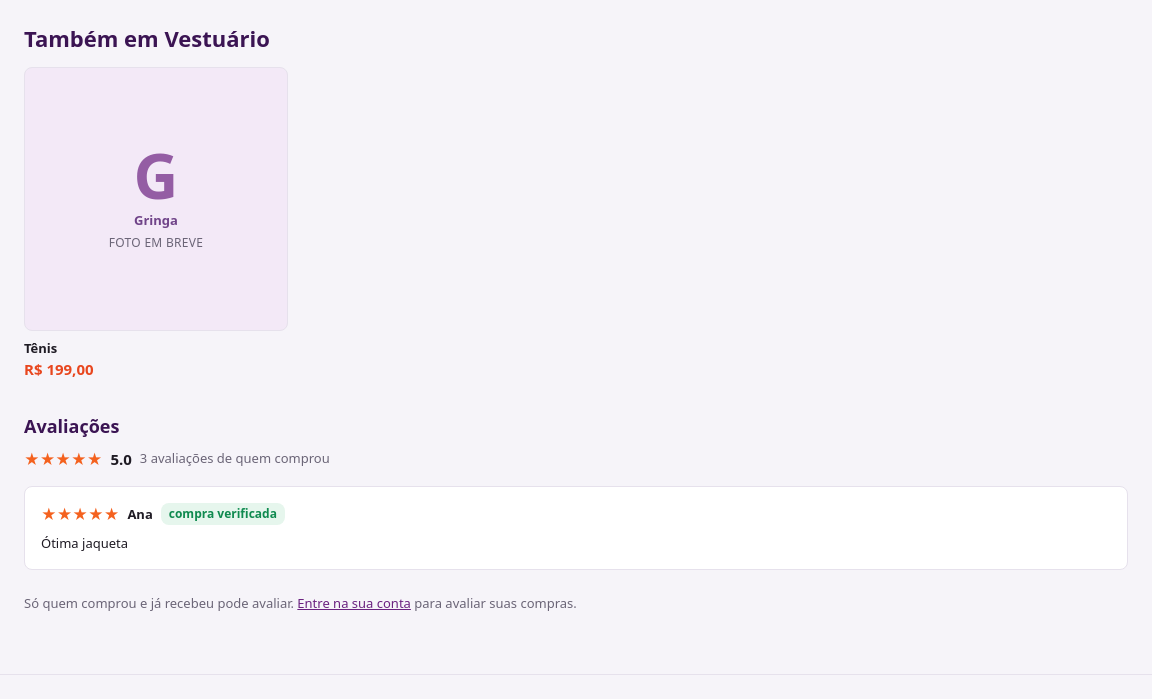
Test: a página do produto não carrega o produto anterior › trocar de produto zera as avaliações do que ficou para trás
(page scrolled)
expect the text "Ótima jaqueta" is shown: met, box [41,534,128,552]
expect the text "3 avaliações de quem comprou" is shown: met, box [140,449,330,468]
Click the text "Tênis".
click(41, 348)  # box [24,338,57,356]
(page scrolled)
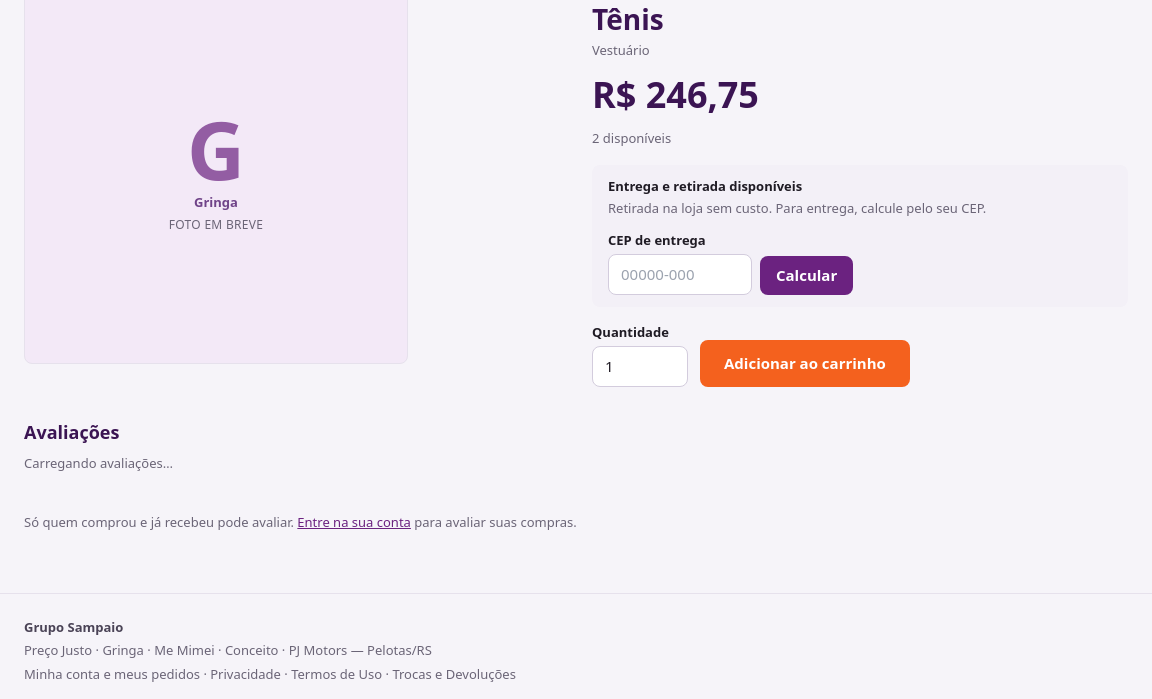
expect the text "Ótima jaqueta" is gone: met
expect the text "3 avaliações" is gone: met
expect the text "Carregando avaliações…" is shown: met, box [24,454,173,472]
